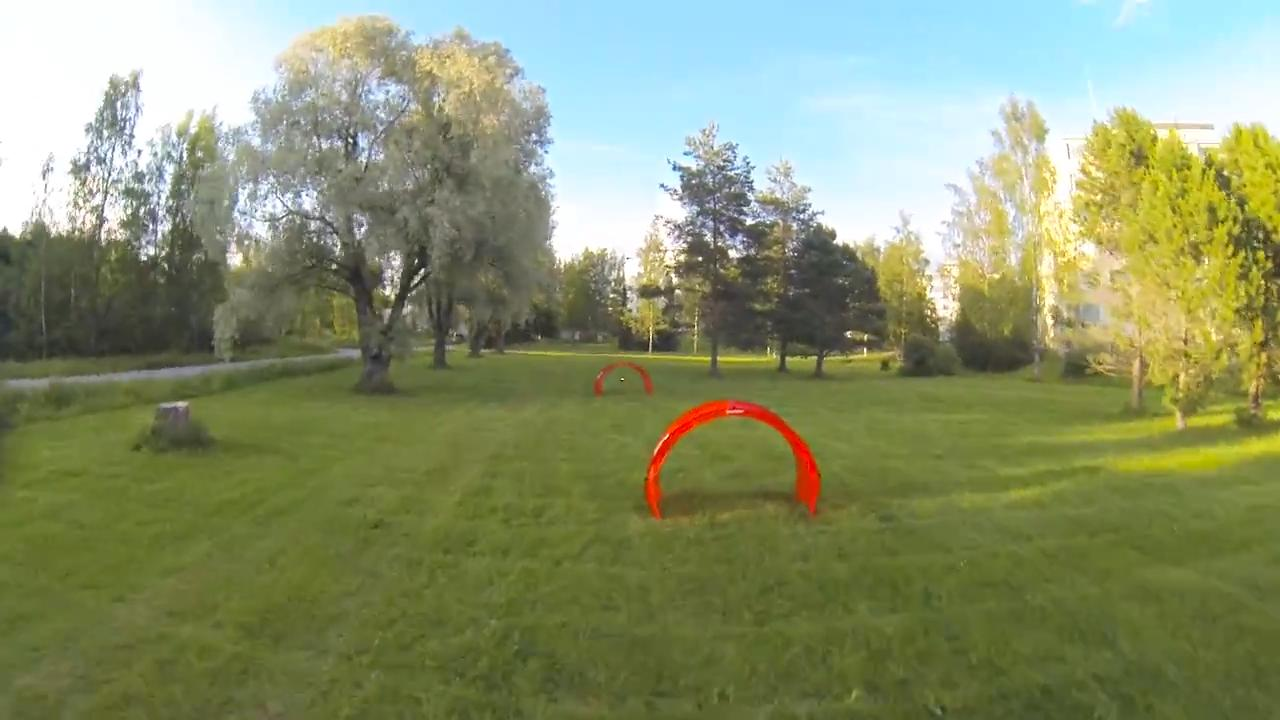gate: (637, 398, 824, 520)
